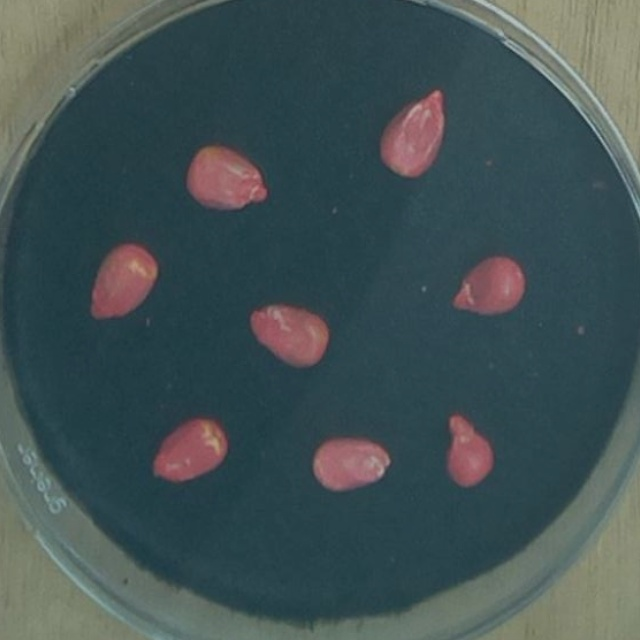Zea mays: (371, 80, 453, 185), (176, 134, 276, 217), (239, 293, 337, 377), (81, 234, 165, 329), (142, 408, 236, 492), (441, 246, 532, 325), (303, 428, 397, 499), (437, 406, 500, 497)
